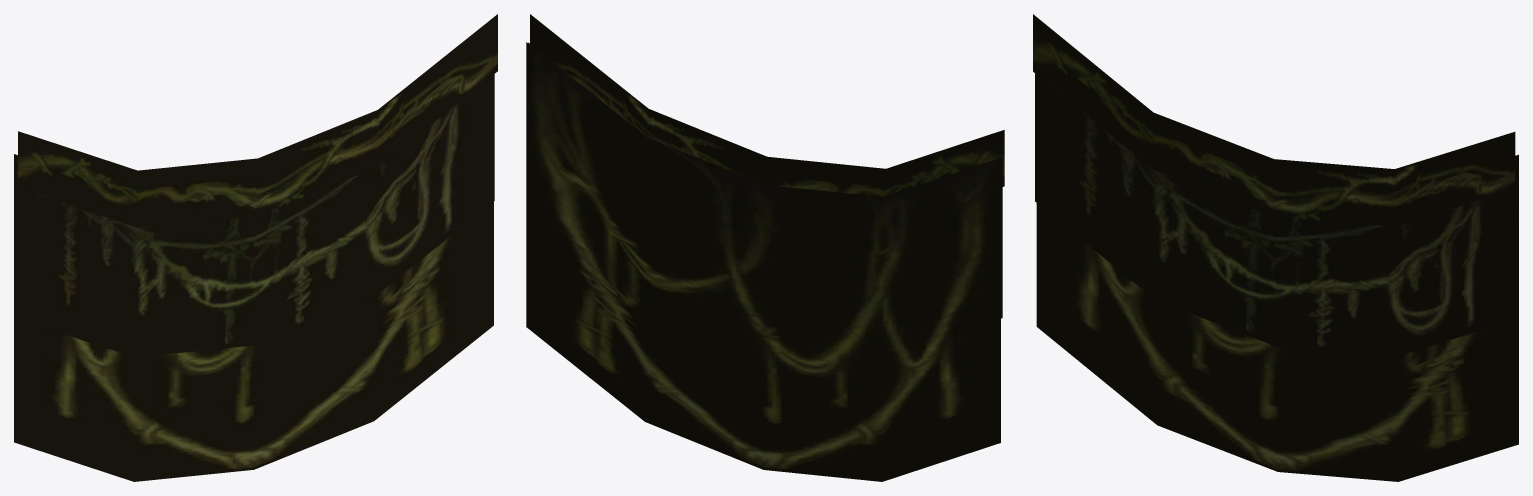
The model's file is environment_Tree_tengman_003.FBX.
3 views of the same model, side by side, from view 1: azimuth 30°, elevation 25°; view 2: azimuth 150°, elevation 25°; view 3: azimuth 330°, elevation 25° (orthographic).
Parts seen in each view (by area): view 1: environment_Tree_tengman_003_02, environment_Tree_tengman_003_03, environment_Tree_tengman_003_01; view 2: environment_Tree_tengman_003_03, environment_Tree_tengman_003_01, environment_Tree_tengman_003_02; view 3: environment_Tree_tengman_003_02, environment_Tree_tengman_003_03, environment_Tree_tengman_003_01.
Boxes of the visible parts, bbox=[...] form: environment_Tree_tengman_003_02: bbox=[15, 74, 494, 357]; environment_Tree_tengman_003_03: bbox=[14, 154, 493, 481]; environment_Tree_tengman_003_01: bbox=[18, 14, 497, 227]; environment_Tree_tengman_003_03: bbox=[526, 42, 1000, 481]; environment_Tree_tengman_003_01: bbox=[530, 14, 1004, 196]; environment_Tree_tengman_003_02: bbox=[528, 42, 1002, 318]; environment_Tree_tengman_003_02: bbox=[1035, 73, 1517, 356]; environment_Tree_tengman_003_03: bbox=[1036, 154, 1518, 481]; environment_Tree_tengman_003_01: bbox=[1033, 14, 1515, 226].
Bounding box in the file's own units: 112 × 1.51 × 89.12.
Materials: 1 (1 with a texture image).
